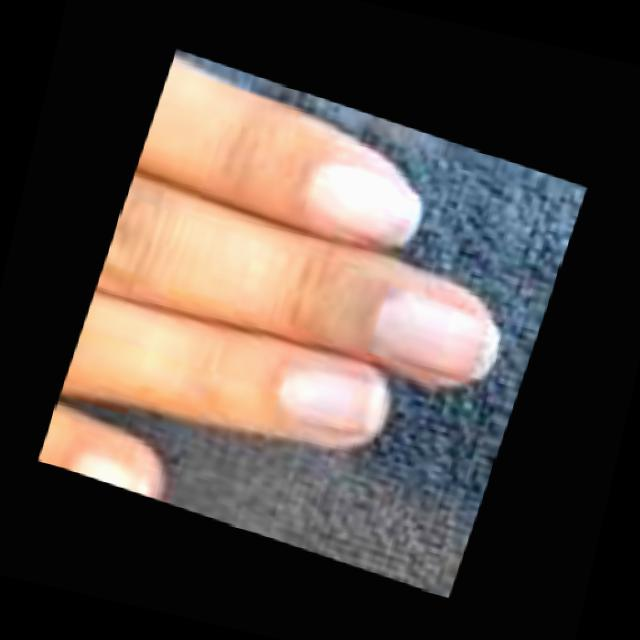Nail: (368, 286, 498, 382), (309, 164, 419, 244), (281, 371, 385, 435), (68, 452, 159, 496)
